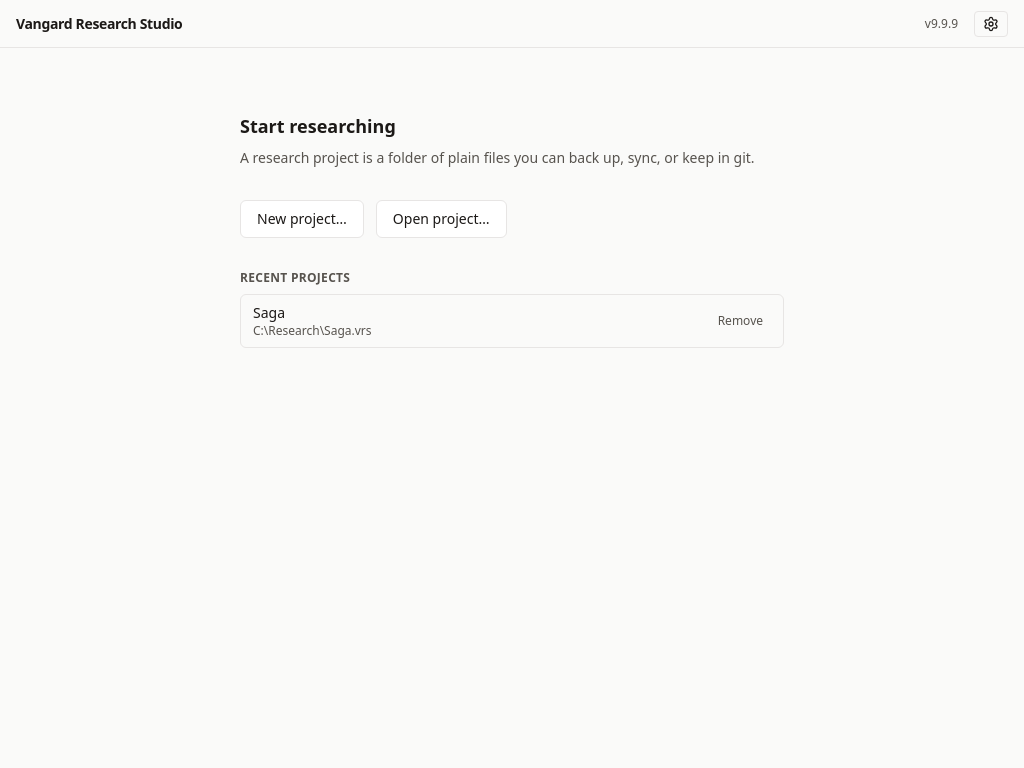
Test case: welcome screen › opens a recent project
Step 1. Click the button with aria-label "Open Saga" → (269, 312), box [253,303,702,339]
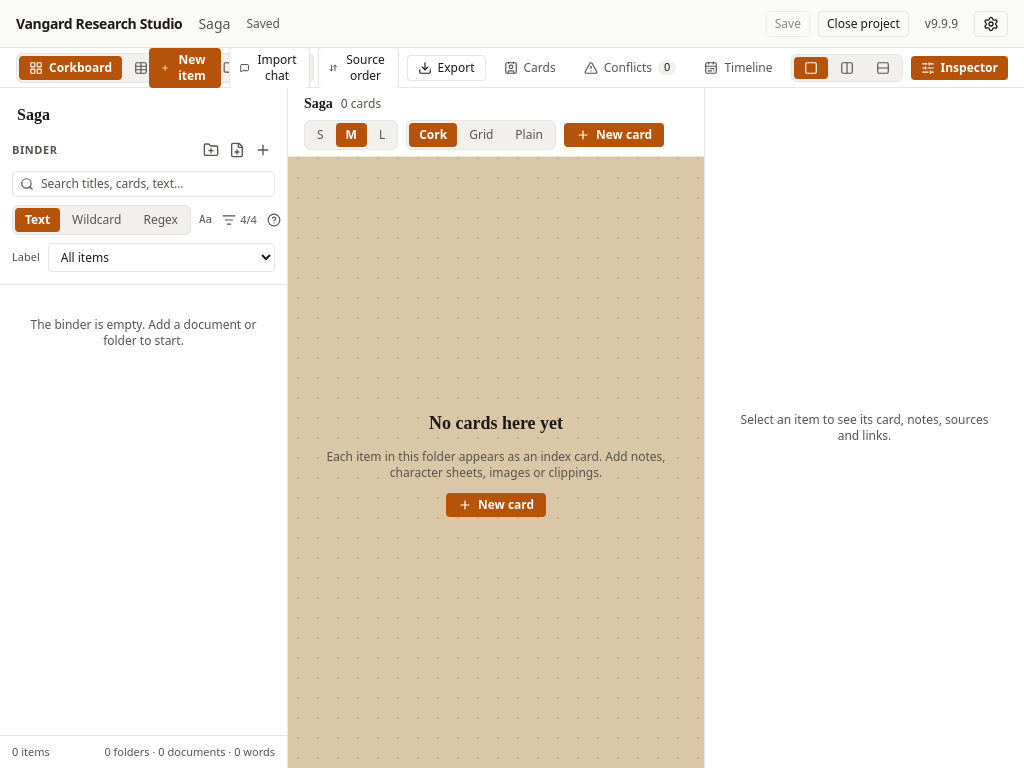
expect the field named "Project name" holds "Saga": met, box [12,100,275,130]
